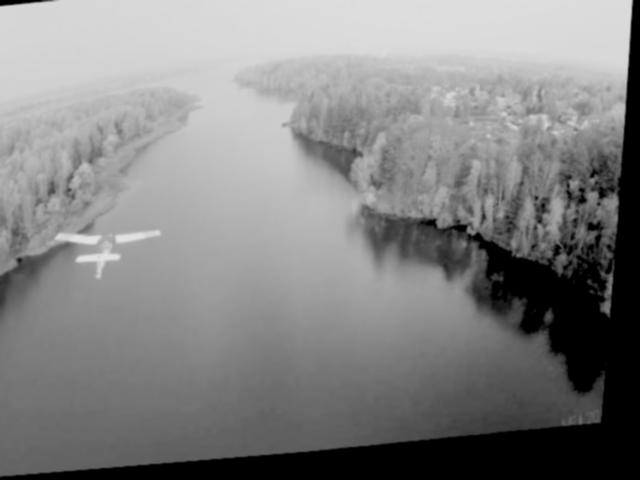hedef: (50, 214, 171, 293)
